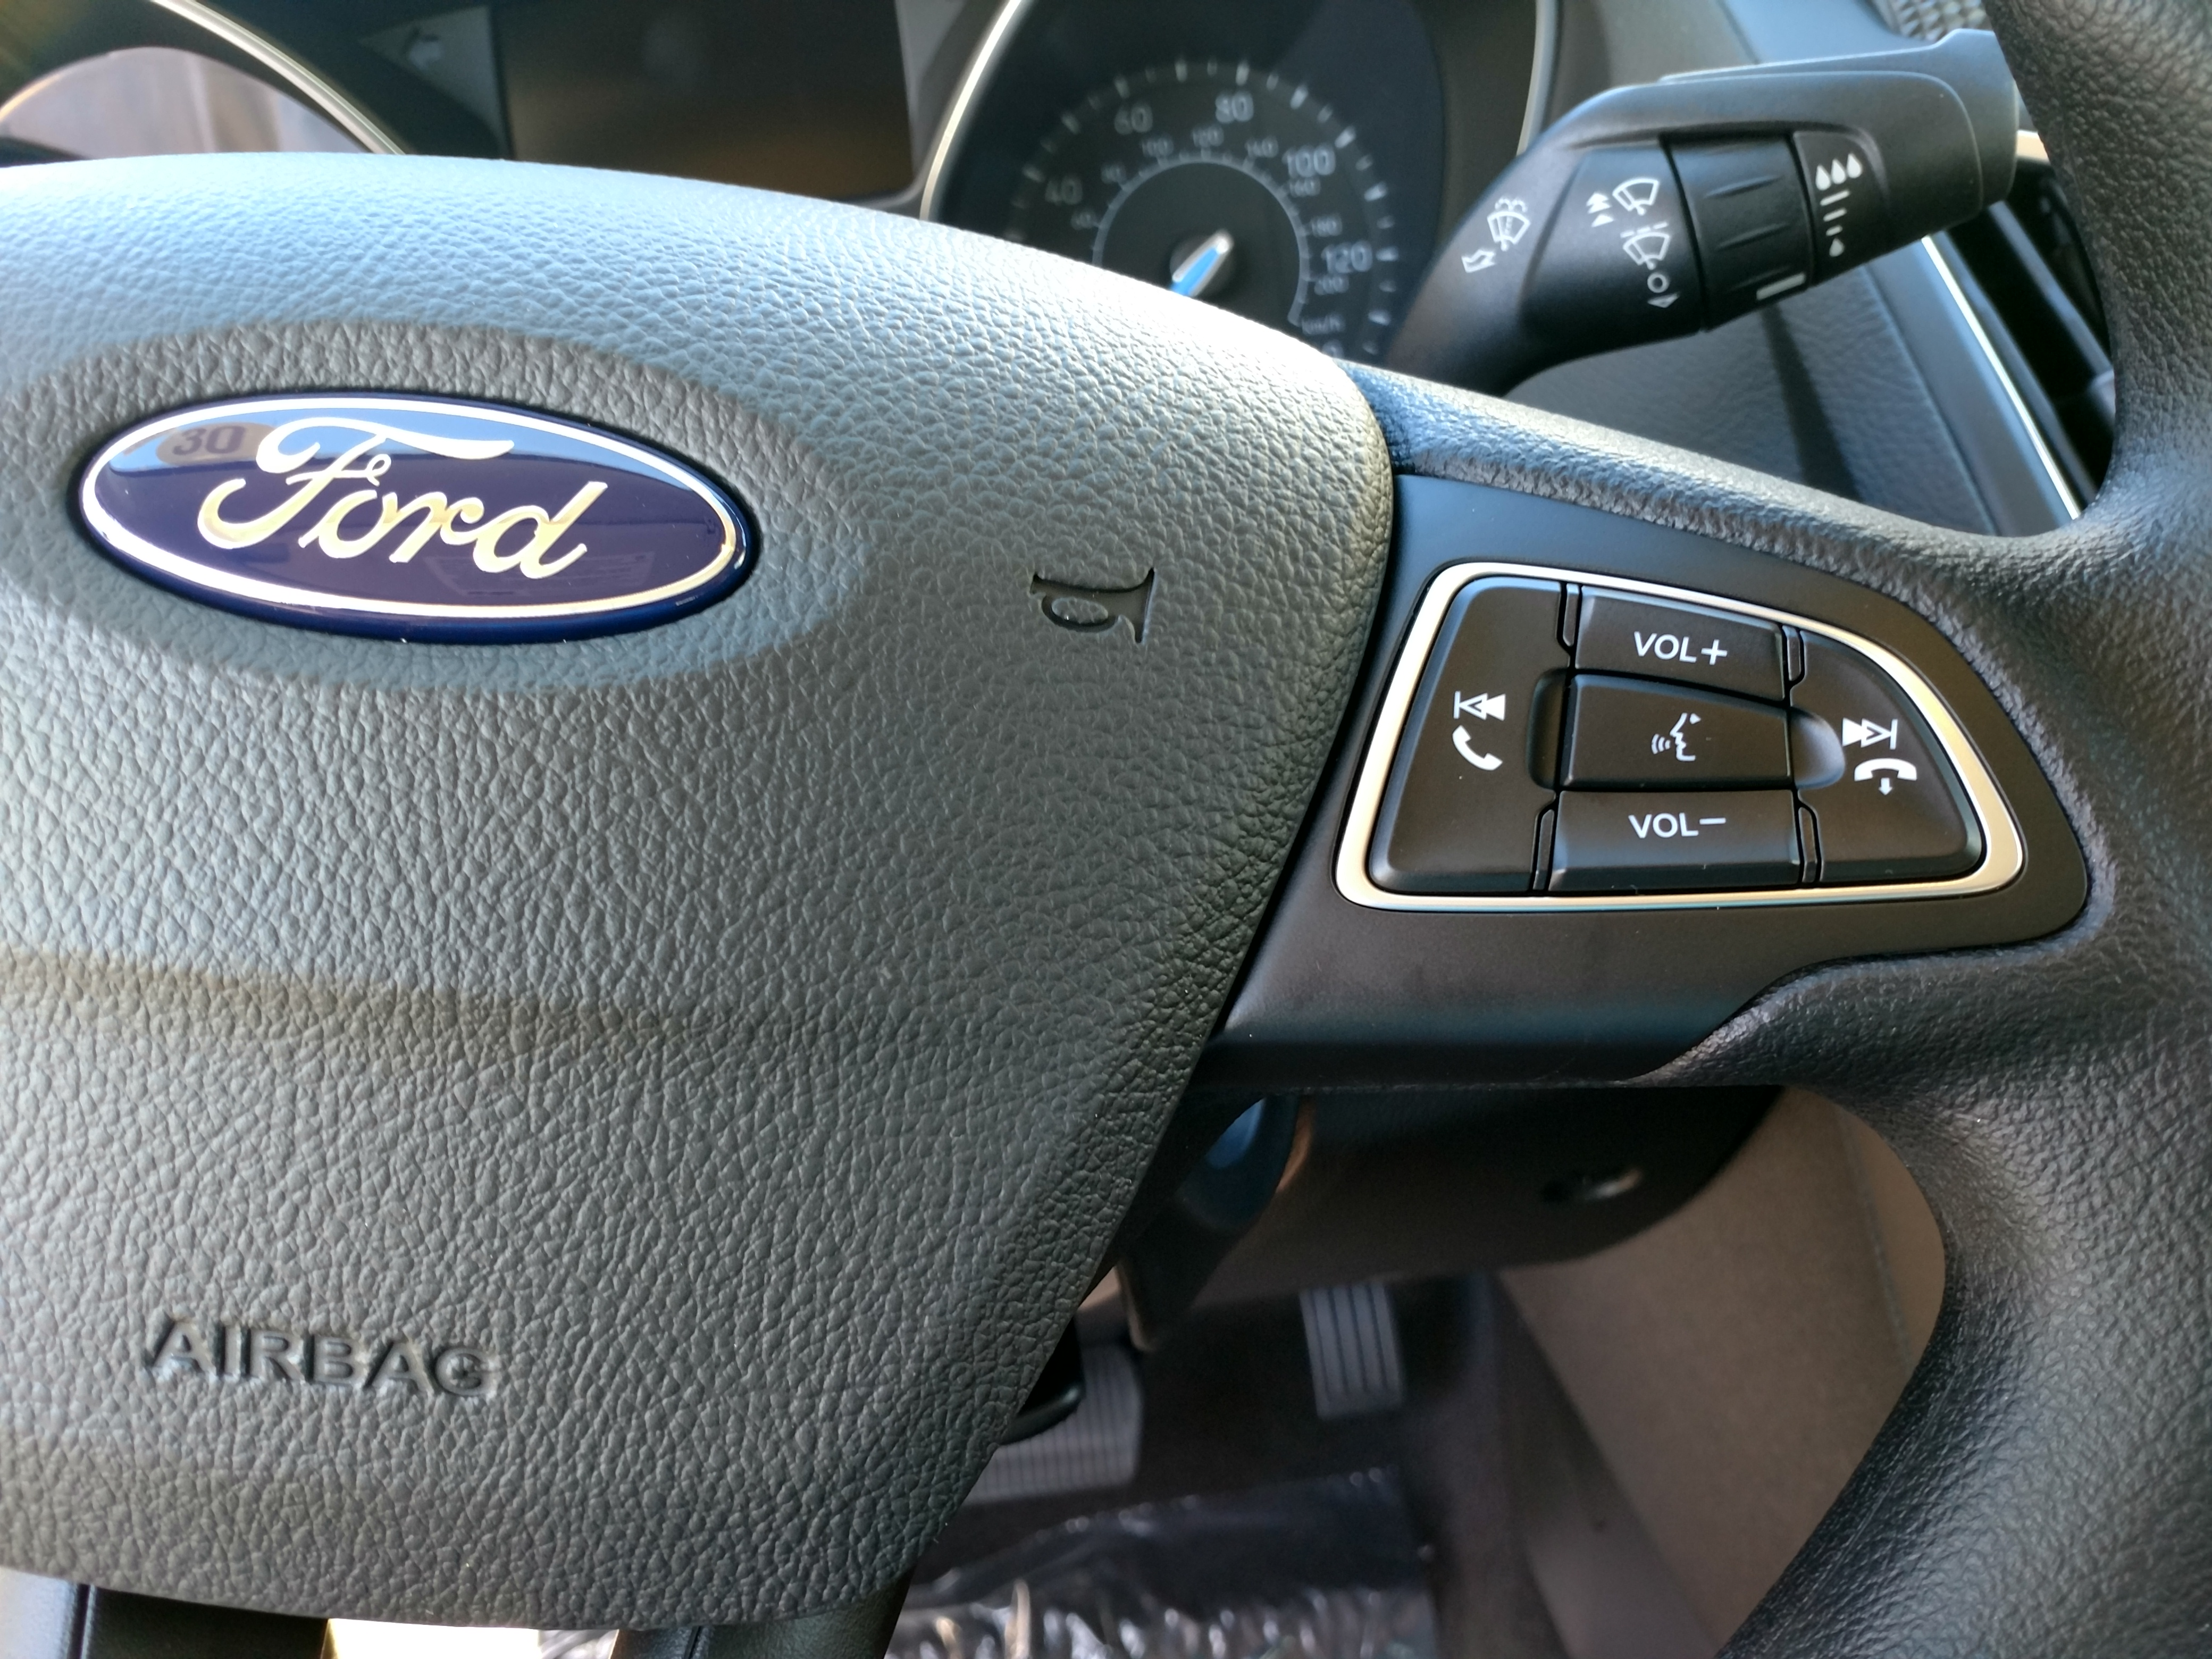Ford: (47, 362, 761, 673)
